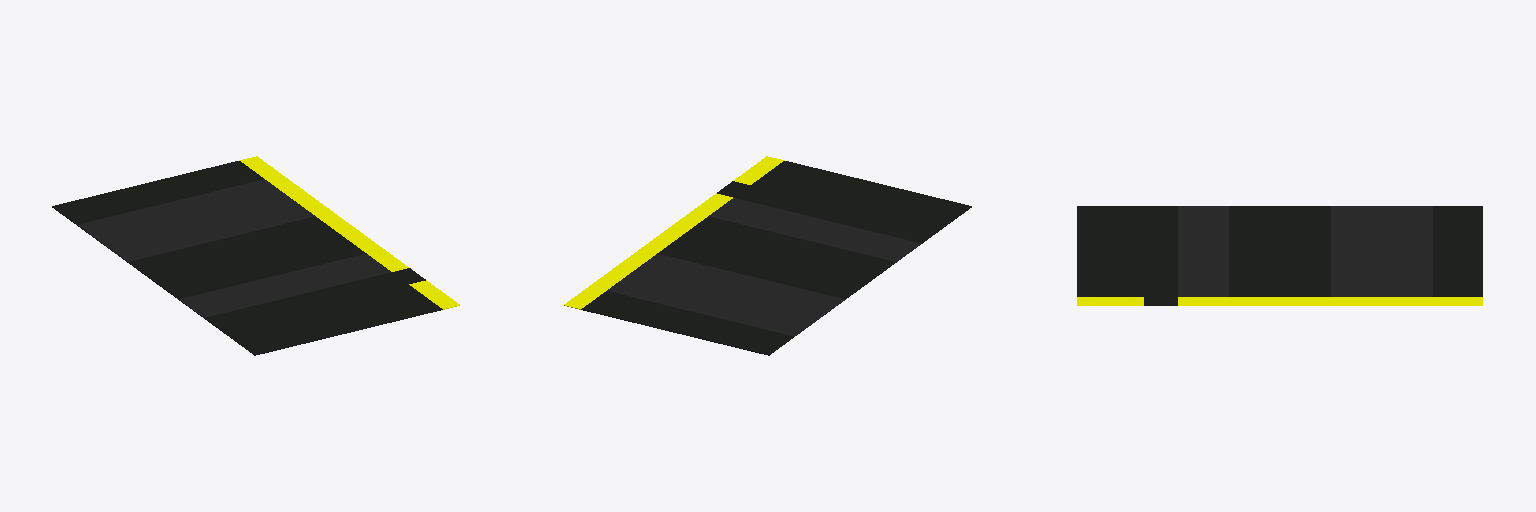
File: carpet_1.obj
3 renders of one model, left to right at view 1: azimuth 30°, elevation 25°; view 2: azimuth 150°, elevation 25°; view 3: azimuth 270°, elevation 25°, orthographic.
Parts seen in each view (by area): view 1: Cube.005_Material, Cube.005_Material.001, Cube.005_Material.003; view 2: Cube.005_Material, Cube.005_Material.001, Cube.005_Material.003; view 3: Cube.005_Material, Cube.005_Material.001, Cube.005_Material.003.
Boxes of the visible parts, x1=… form: Cube.005_Material: x1=52, y1=161, x2=442, y2=355; Cube.005_Material.001: x1=77, y1=179, x2=390, y2=317; Cube.005_Material.003: x1=239, y1=156, x2=459, y2=309; Cube.005_Material: x1=581, y1=161, x2=971, y2=355; Cube.005_Material.001: x1=607, y1=198, x2=920, y2=336; Cube.005_Material.003: x1=564, y1=156, x2=784, y2=309; Cube.005_Material: x1=1077, y1=206, x2=1482, y2=296; Cube.005_Material.001: x1=1178, y1=206, x2=1432, y2=296; Cube.005_Material.003: x1=1077, y1=297, x2=1482, y2=305.
Bounding box in the file's own units: 14 × 0.04 × 24.